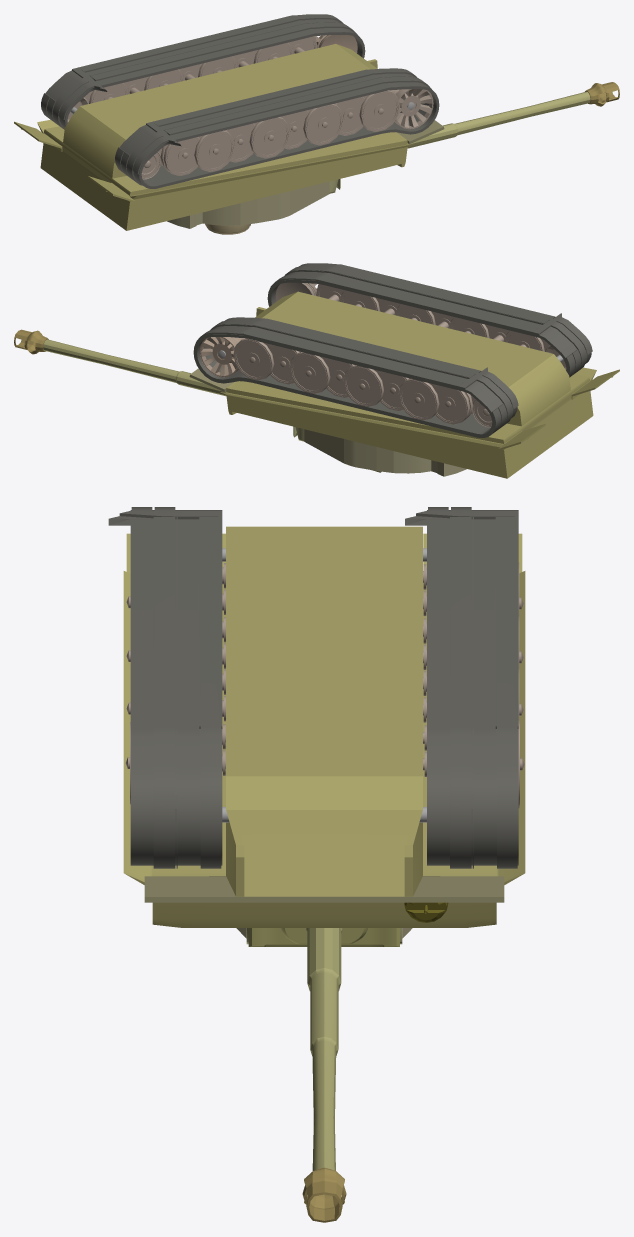
The model's file is Tiger1 Tank Mesh.fbx.
The picture shows the model from 3 angles, top to bottom: view 1: azimuth 30°, elevation 25°; view 2: azimuth 150°, elevation 25°; view 3: azimuth 270°, elevation 25°; orthographic projection. The views are drawn at different scales.
Parts seen in each view (by area): view 1: Body, pCube1, pasted__pCube1, pasted__pasted__Wheel_Pat1 (×2), Head, Barrel, pasted__Wheel_Pat2, pasted__Wheel_Pat1, pasted__Wheel_Pat, Front_CogWheel, pasted__pasted__pasted__Wheel_Pat2, pasted__pasted__pasted__Wheel_Pat1 (+6 smaller); view 2: Body, pasted__pCube1, pCube1, Head, pasted__pasted__Wheel_Pat1 (×2), pasted__pasted__pasted__Wheel_Pat1, Barrel, pasted__pasted__pasted__Wheel_Pat2, pasted__pasted__pasted__Wheel_Pat, pasted__pCylinder1, pasted__Wheel_Pat2, pasted__Wheel_Pat (+5 smaller); view 3: Body, pCube1, pasted__pCube1, Barrel, Hood, ForeHead_B, Cap.
Part boxes in pixels (x1,y1,x2,y2): Body: (14, 44, 413, 230); pCube1: (115, 68, 439, 188); pasted__pCube1: (41, 14, 365, 129); pasted__pasted__Wheel_Pat1 (×2): (144, 63, 234, 175); Head: (167, 181, 329, 228); Barrel: (407, 91, 590, 148); pasted__Wheel_Pat2: (334, 90, 400, 135); pasted__Wheel_Pat1: (224, 117, 290, 162); pasted__Wheel_Pat: (280, 104, 343, 149); Front_CogWheel: (390, 89, 433, 129); pasted__pasted__pasted__Wheel_Pat2: (253, 36, 317, 63); pasted__pasted__pasted__Wheel_Pat1: (84, 76, 148, 103); Body: (220, 291, 619, 478); pasted__pCube1: (193, 317, 518, 437); pCube1: (267, 263, 592, 377); Head: (304, 429, 466, 476); pasted__pasted__Wheel_Pat1 (×2): (343, 324, 549, 410); pasted__pasted__pasted__Wheel_Pat1: (398, 378, 475, 424); Barrel: (43, 339, 226, 396); pasted__pasted__pasted__Wheel_Pat2: (233, 338, 301, 384); pasted__pasted__pasted__Wheel_Pat: (289, 352, 355, 397); pasted__pCylinder1: (199, 337, 245, 377); pasted__Wheel_Pat2: (316, 284, 380, 311); pasted__Wheel_Pat: (376, 298, 435, 324); Body: (123, 526, 525, 927); pCube1: (108, 507, 222, 868); pasted__pCube1: (405, 507, 518, 868); Barrel: (306, 928, 342, 1170); Hood: (144, 876, 504, 902); ForeHead_B: (248, 928, 399, 946); Cap: (302, 1167, 346, 1222).
Bounding box in the file's own units: 20.39 × 4.69 × 6.66.
